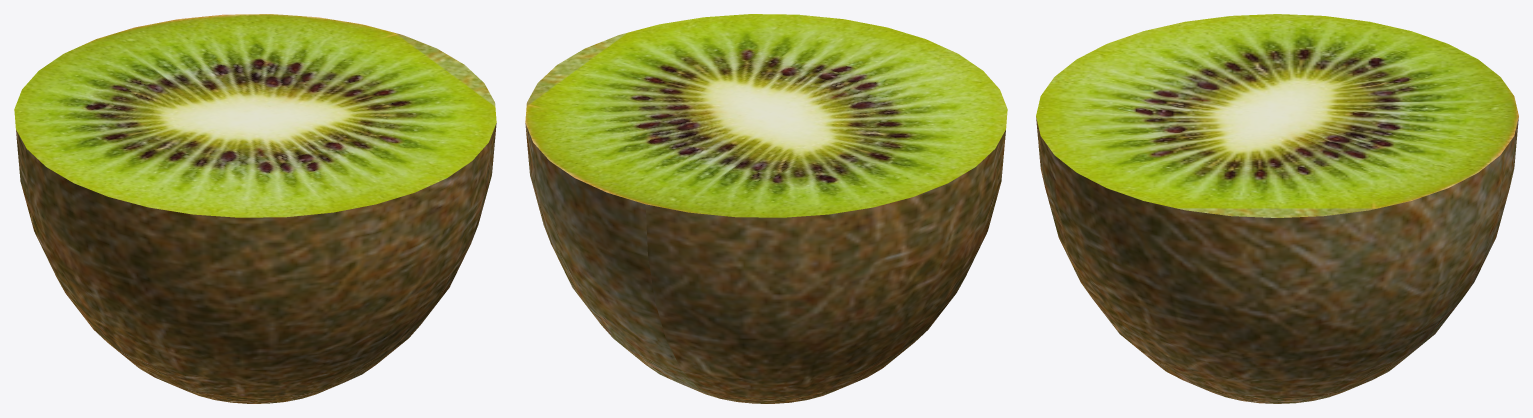
Rendered from Kiwi2.fbx.
3 renders of one model, left to right at view 1: azimuth 30°, elevation 25°; view 2: azimuth 150°, elevation 25°; view 3: azimuth 270°, elevation 25°, orthographic.
Parts seen in each view (by area): view 1: Kiwi2; view 2: Kiwi2; view 3: Kiwi2.
Part boxes in pixels (<box>): Kiwi2: <box>14,14,496,403</box>; Kiwi2: <box>525,14,1007,403</box>; Kiwi2: <box>1036,14,1518,403</box>.
Bounding box in the file's own units: 1.6 × 0.9456 × 1.6.
Materials: 1 (1 with a texture image).
